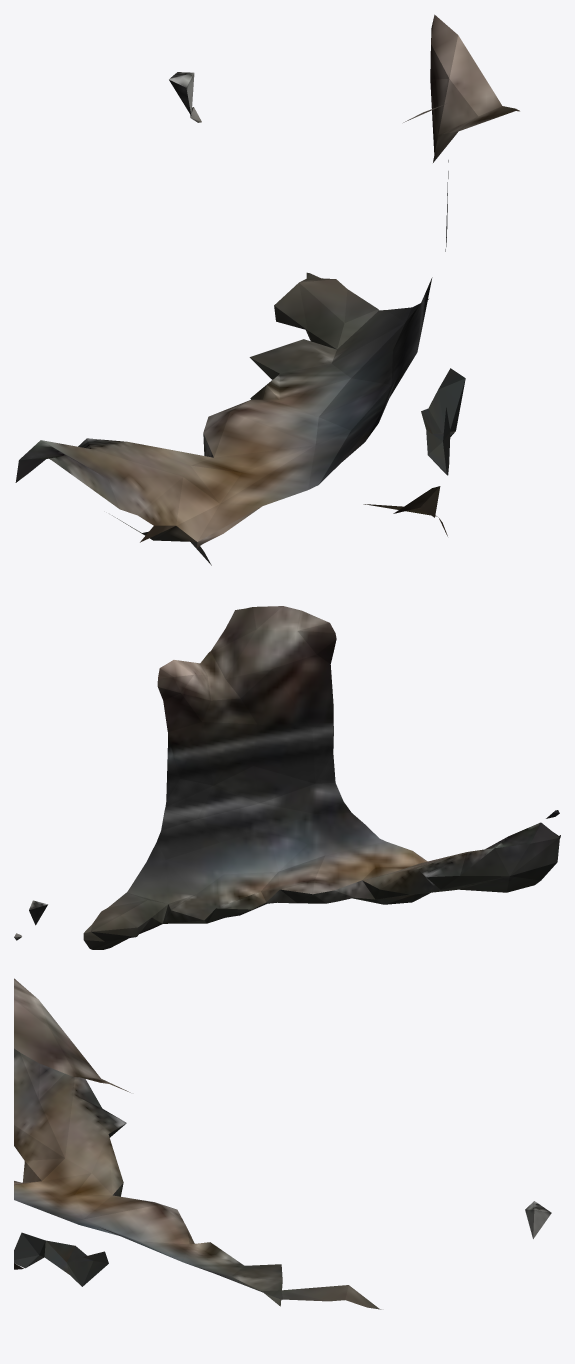
3 views of the same model, one above another, from view 1: azimuth 30°, elevation 25°; view 2: azimuth 150°, elevation 25°; view 3: azimuth 270°, elevation 25° (orthographic). The views are drawn at different scales.
Bounding box in the file's own units: 0.2836 × 0.2158 × 0.3331.
Materials: 1 (1 with a texture image).
